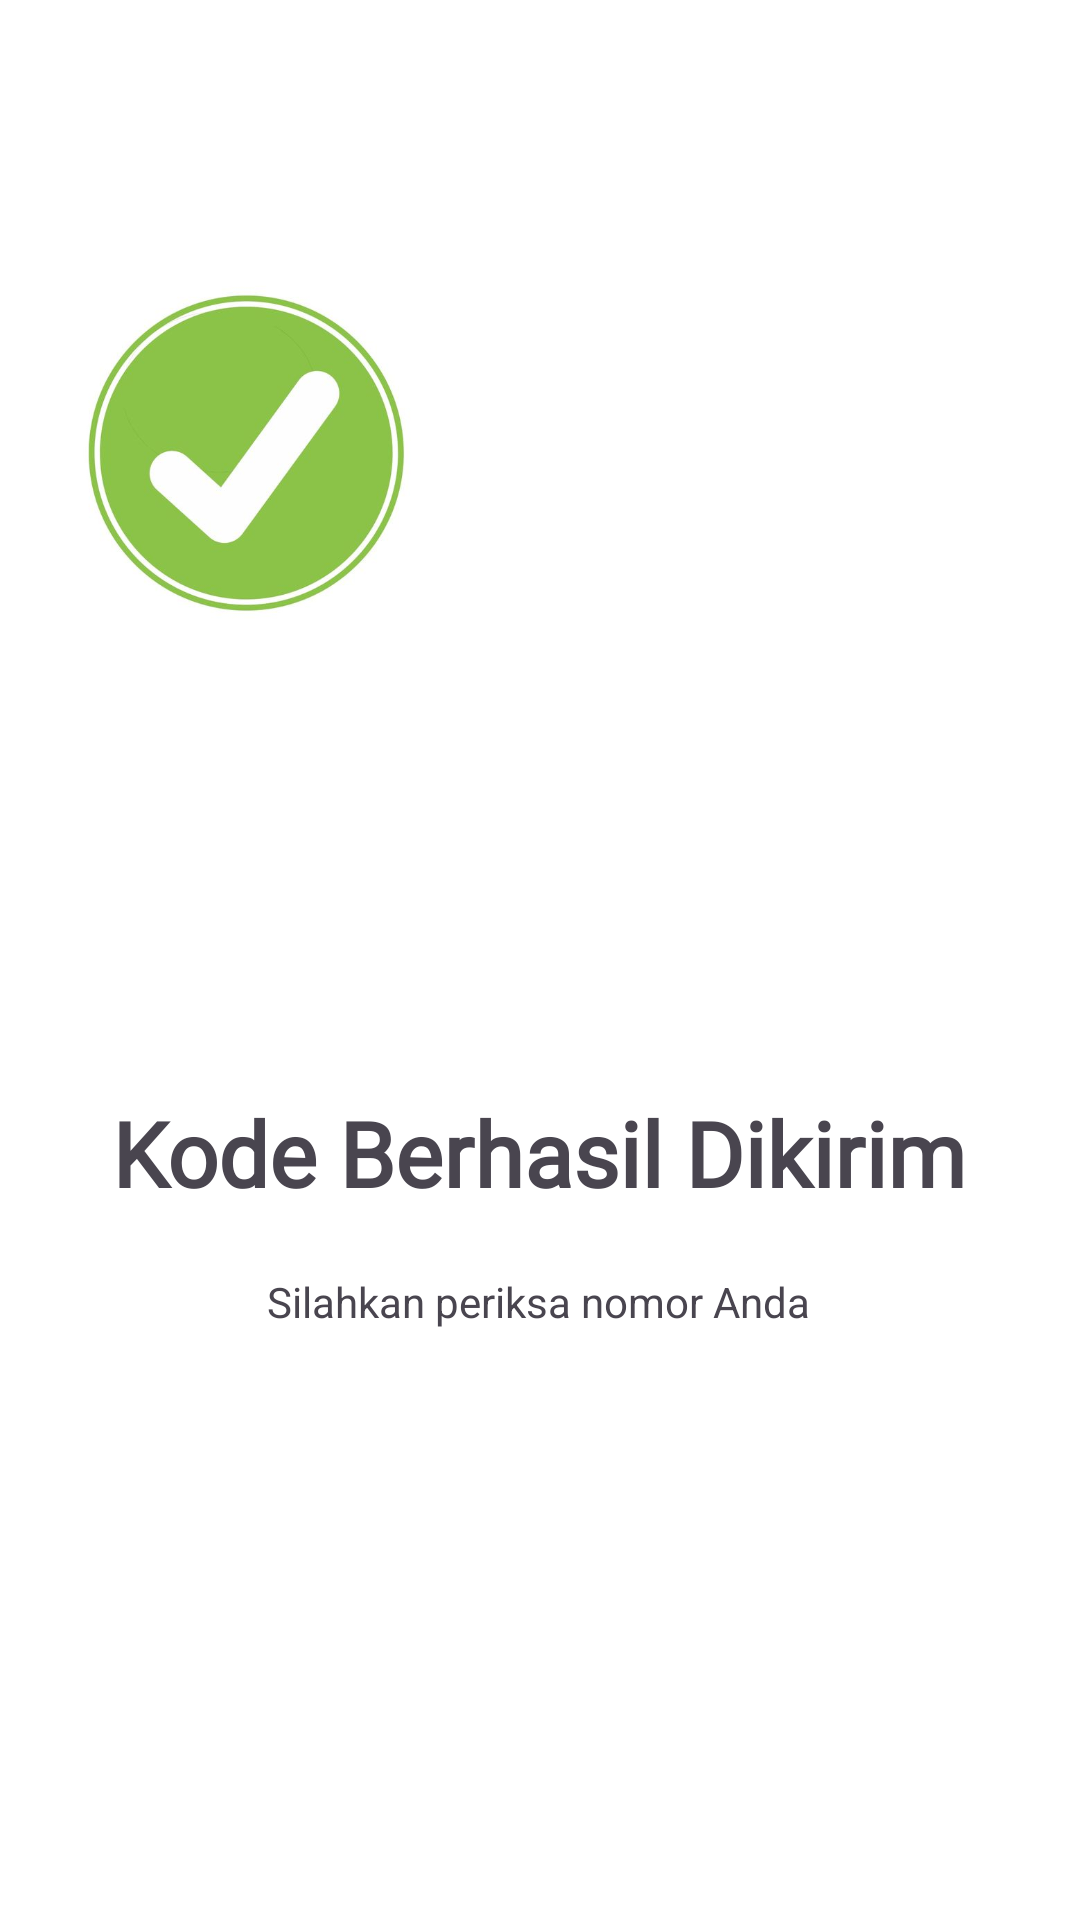

Named icons in this screenshot (1080*1920) and their bounding boxes, (x1, y1, x2, y2):
centang: (88, 295, 404, 611)
